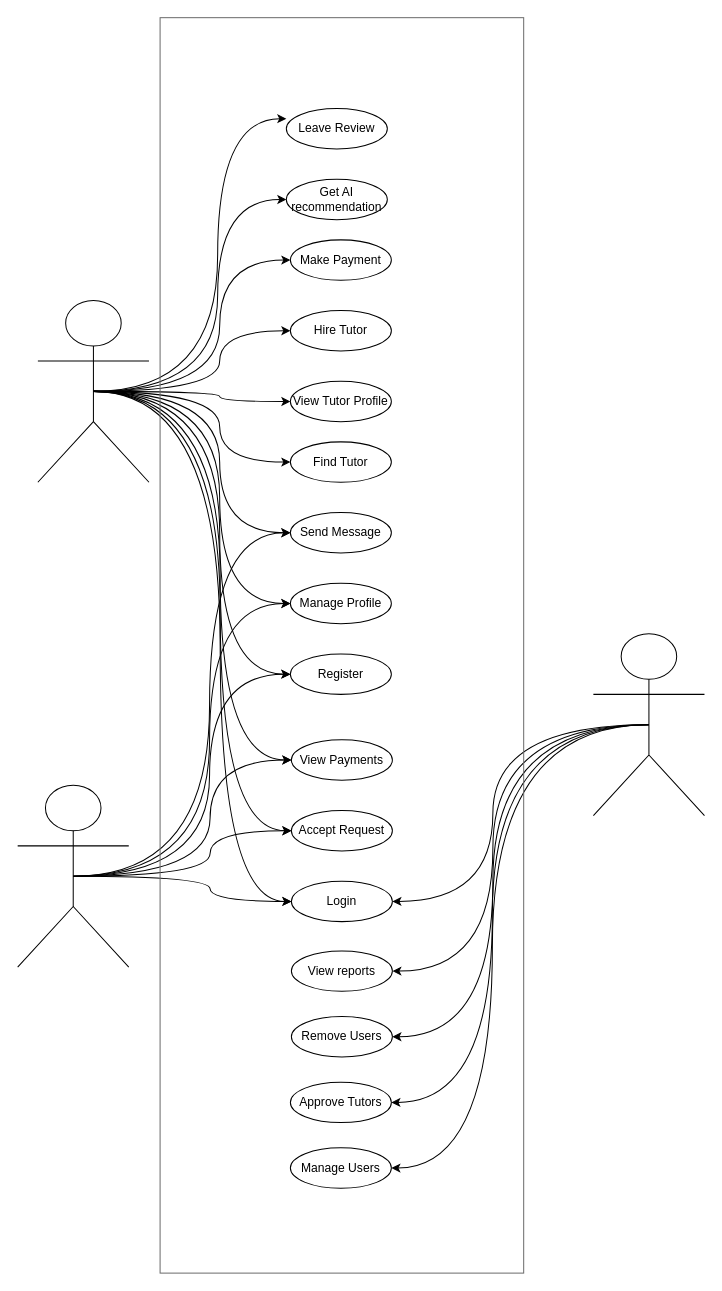
This 722x1291 diagram has some shape labels left out. Each missing label, with the centre of its shape:
"Admin" belongs at point 648,724.
"Student" belongs at point 93,390.
"Tutor" belongs at point 73,875.
